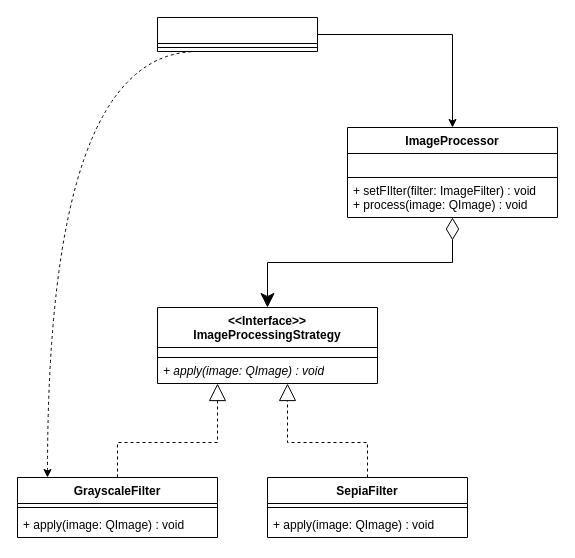
Some shapes in this 575 by 558 pixel diagram are drawn without their labels. Here are the shapes that lost their labels. From the top down, the centre of each, then its label:
the point at 237,34: MainWIndow
the point at 452,165: - filter: ImageFilter
